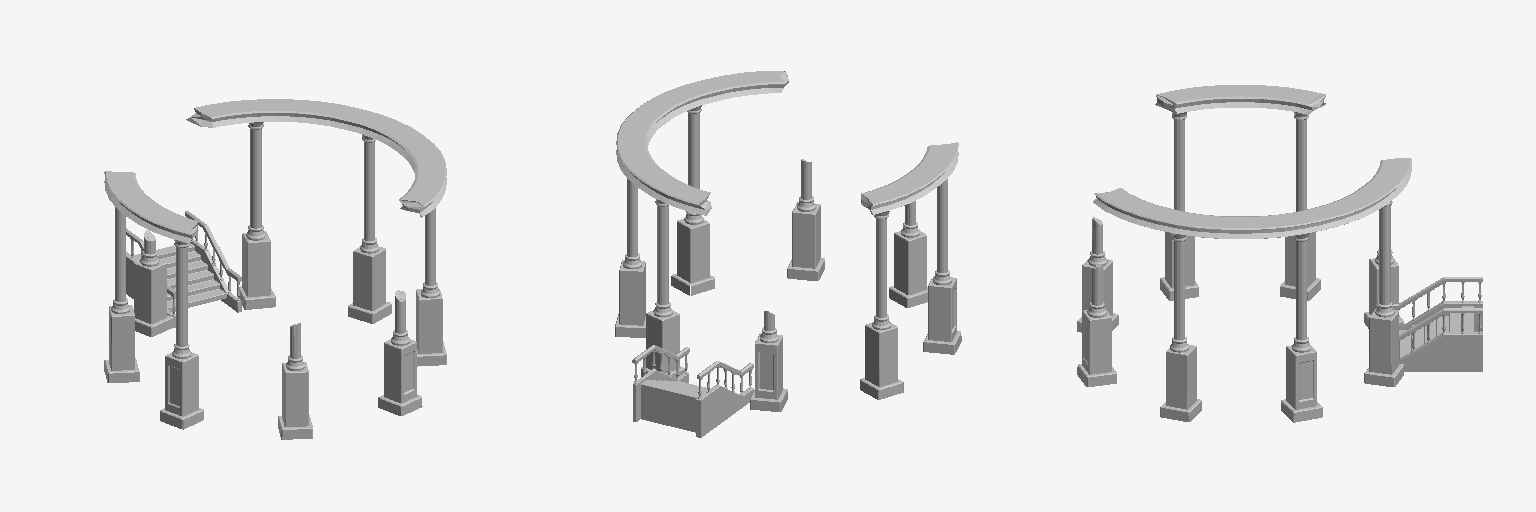
File: steps_colums.obj
3 renders of one model, left to right at view 1: azimuth 30°, elevation 25°; view 2: azimuth 150°, elevation 25°; view 3: azimuth 270°, elevation 25°, orthographic.
Visible parts, largest first — view 1: columB, columA, columD, steps, ColumC, steps1; view 2: columB, columA, steps, ColumC, columD, steps1; view 3: columB, columA, steps, columD, ColumC, steps1.
Boxes of the visible parts, x1=… form: columB: x1=186, y1=99, x2=446, y2=366; columA: x1=104, y1=171, x2=203, y2=429; columD: x1=378, y1=290, x2=422, y2=415; steps: x1=126, y1=239, x2=241, y2=327; ColumC: x1=278, y1=323, x2=312, y2=439; steps1: x1=126, y1=211, x2=241, y2=316; columB: x1=615, y1=71, x2=788, y2=378; columA: x1=750, y1=142, x2=961, y2=411; steps: x1=633, y1=370, x2=753, y2=437; ColumC: x1=889, y1=201, x2=927, y2=307; columD: x1=787, y1=159, x2=824, y2=280; steps1: x1=632, y1=345, x2=753, y2=398; columB: x1=1093, y1=158, x2=1411, y2=422; columA: x1=1155, y1=85, x2=1403, y2=328; steps: x1=1399, y1=301, x2=1482, y2=371; columD: x1=1077, y1=264, x2=1116, y2=386; ColumC: x1=1077, y1=217, x2=1118, y2=332; steps1: x1=1376, y1=277, x2=1482, y2=352.
Size of the model in its own units: 68.07 by 43.59 by 80.69.